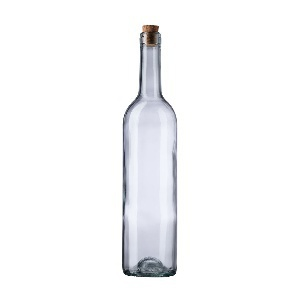emptybottle: (123, 26, 177, 277)
